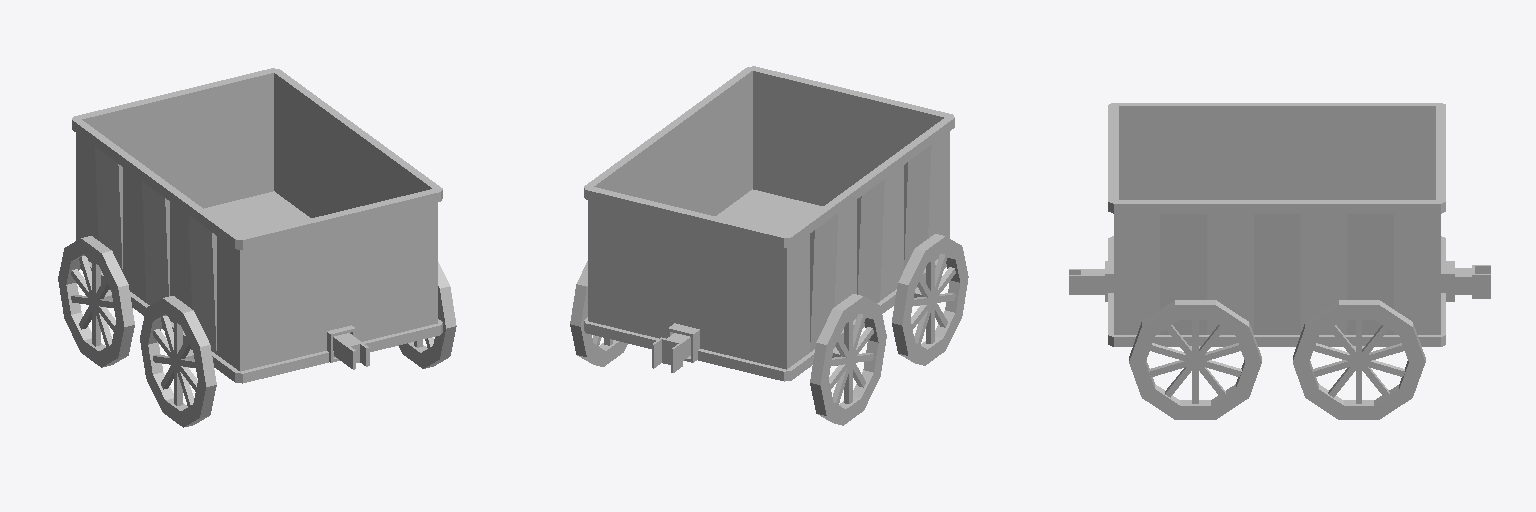
The model's file is small hopper.obj.
3 renders of one model, left to right at view 1: azimuth 30°, elevation 25°; view 2: azimuth 150°, elevation 25°; view 3: azimuth 270°, elevation 25°, orthographic.
Visible parts, largest first — view 1: Plane.002_Plane.001_Plane.002_Plane.002; view 2: Plane.002_Plane.001_Plane.002_Plane.002; view 3: Plane.002_Plane.001_Plane.002_Plane.002.
Part boxes in pixels (bbox=[...]): Plane.002_Plane.001_Plane.002_Plane.002: bbox=[58, 68, 456, 427]; Plane.002_Plane.001_Plane.002_Plane.002: bbox=[570, 66, 968, 425]; Plane.002_Plane.001_Plane.002_Plane.002: bbox=[1069, 103, 1490, 419].
Size of the model in its own units: 5.29 by 4.15 by 7.71.